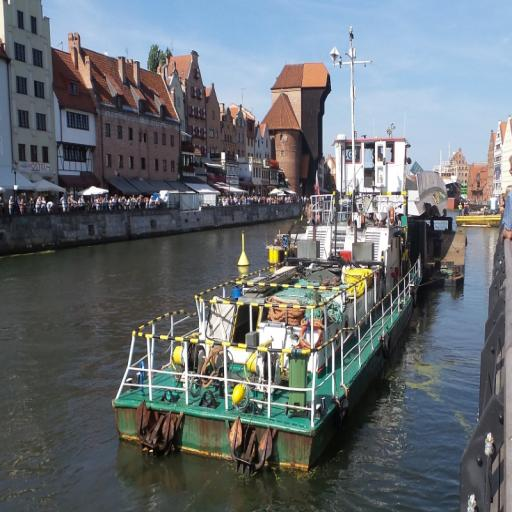tugboat: (107, 133, 427, 495)
